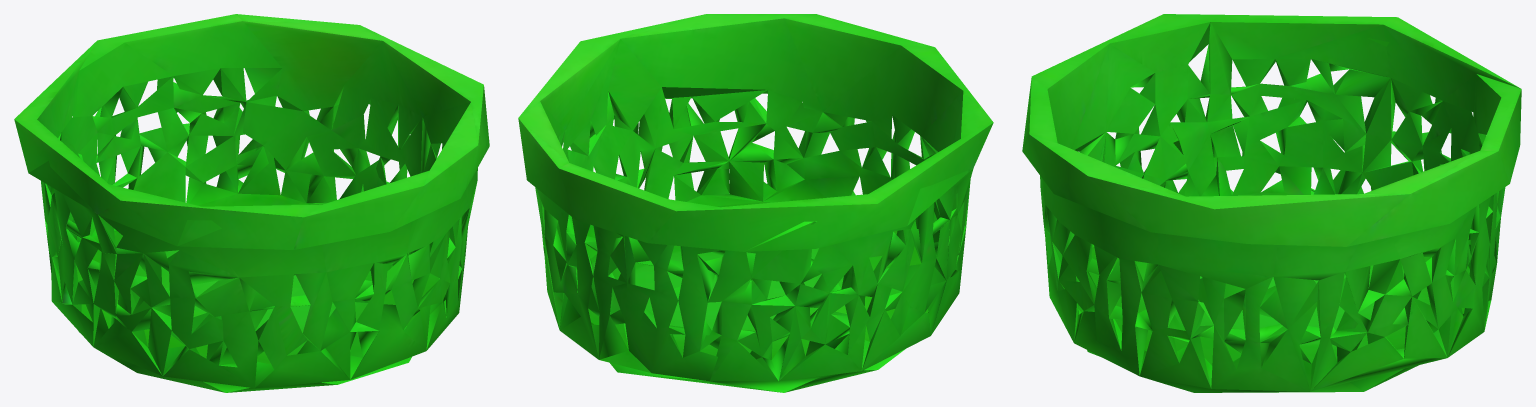
The model's file is trashBasket.glb.
The picture shows the model from 3 angles, left to right: view 1: azimuth 30°, elevation 25°; view 2: azimuth 150°, elevation 25°; view 3: azimuth 270°, elevation 25°; orthographic projection. The views are drawn at different scales.
Visible parts, largest first — view 1: model; view 2: model; view 3: model.
Part boxes in pixels (box(x1,y1,x2,y2)): model: box(14, 14, 489, 392); model: box(518, 14, 993, 392); model: box(1022, 14, 1521, 392).
Size of the model in its own units: 1.81 by 0.8916 by 1.9.
Materials: 1 (1 with a texture image).
